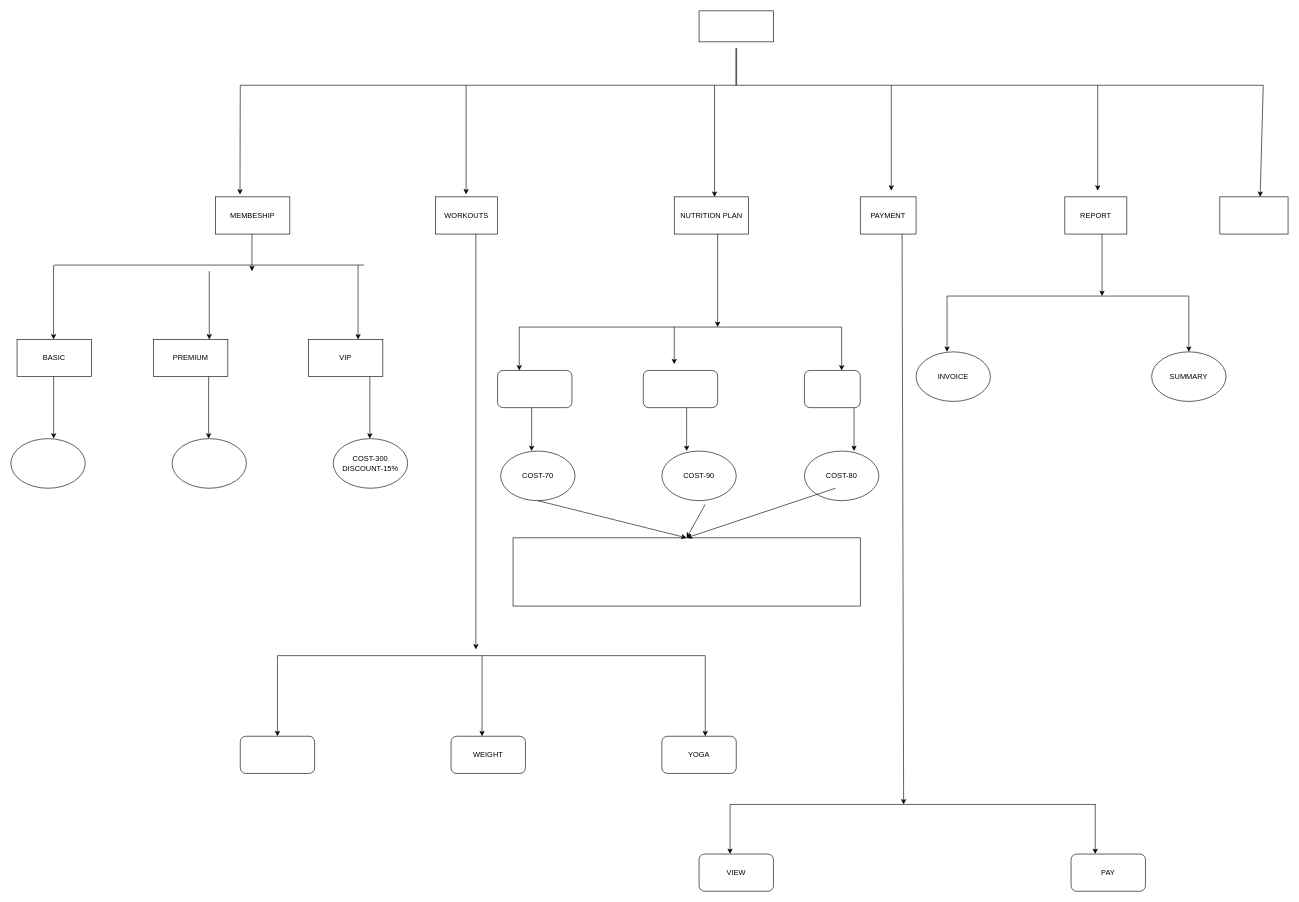
The diagram is 1299 pixels wide and 902 high, and some of its shapes have lost their labels. The centre of each missing label's shape, as x and y in pixels:
AEROBICS: point 277,754
COST-100 DISCOUNT-5%: point 47,463
COST-200 DISCOUNT-10%: point 208,463
FITNESS MANAGEMENT SYSYTEM: point 735,26
KETO: point 680,389
KG->0-5->5% DISOUNT KG->5-10->10%DISCOUNT KG->10-MORE-->15%DISACOUNT: point 686,571
PALEO: point 832,389
QUIT: point 1253,215
VEGAN: point 534,389
